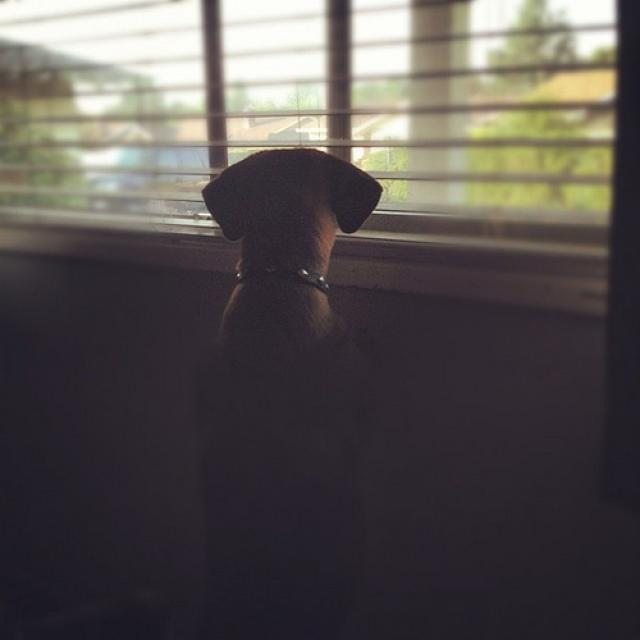Dog: (157, 144, 455, 640)
